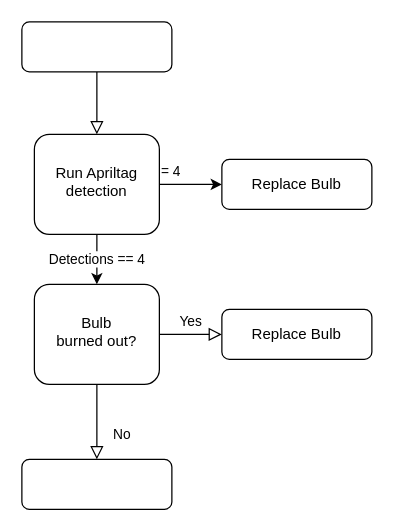
Some shapes in this 394 by 531 pixel diagram are drawn without their labels. The centre of each missing label's shape, as x and y in pixels:
Read image: (96,46)
Repair Lamp: (96,483)
